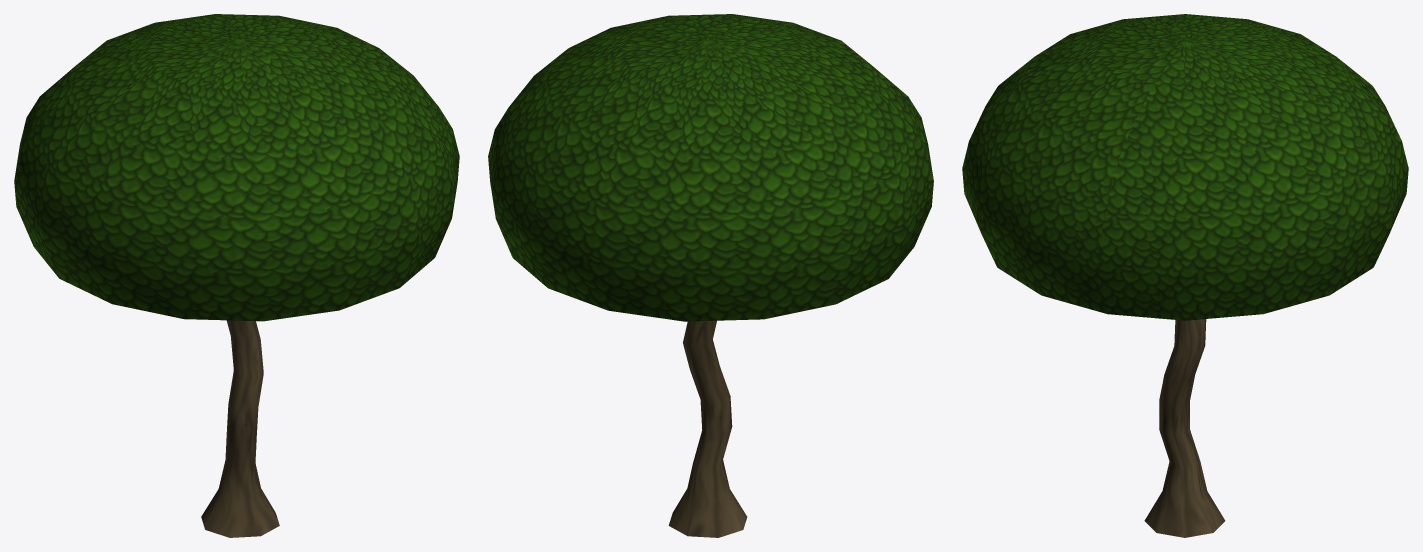
Rendered from forestTree.FBX.
3 views of the same model, side by side, from view 1: azimuth 30°, elevation 25°; view 2: azimuth 150°, elevation 25°; view 3: azimuth 270°, elevation 25° (orthographic).
Visible parts, largest first — view 1: Cylinder001; view 2: Cylinder001; view 3: Cylinder001.
Part boxes in pixels (box(x1,y1,x2,y2)): Cylinder001: box(14, 14, 459, 537); Cylinder001: box(488, 14, 933, 537); Cylinder001: box(962, 14, 1408, 537).
Bounding box in the file's own units: 482 × 568 × 482.
